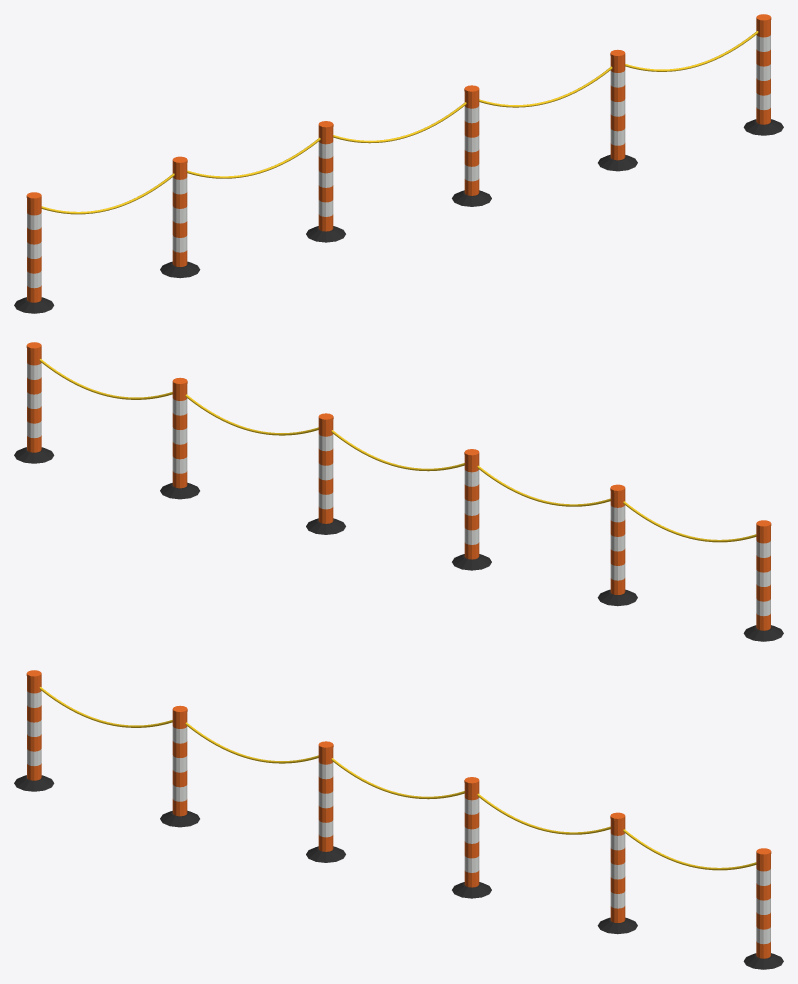
File: bollards6.glb
3 renders of one model, top to bottom at view 1: azimuth 30°, elevation 25°; view 2: azimuth 150°, elevation 25°; view 3: azimuth 330°, elevation 25°, orthographic.
Size of the model in its own units: 7.86 by 1.08 by 0.36.
